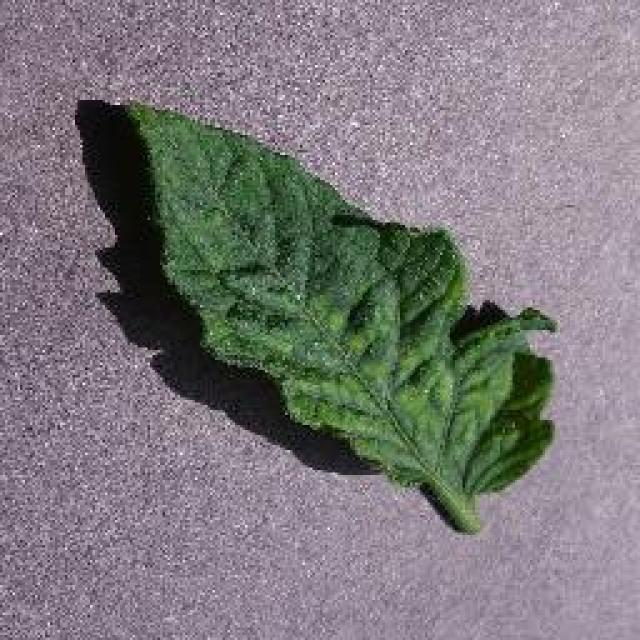Tomato___Tomato_mosaic_virus: (125, 105, 555, 530)
